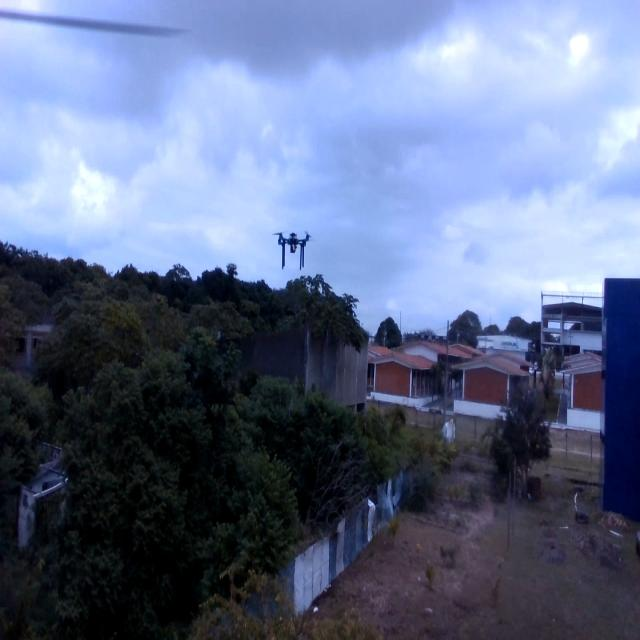-uav-: (267, 215, 315, 281)
